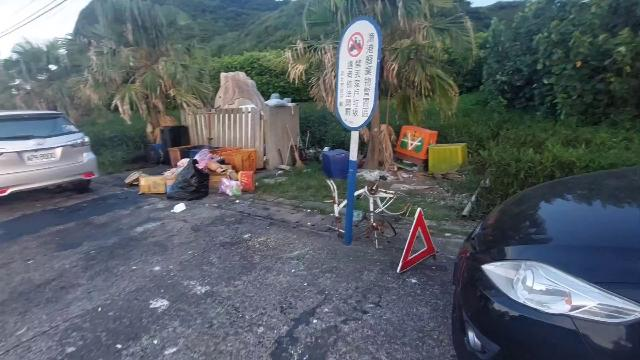pollute: (117, 142, 257, 201), (356, 174, 413, 248), (393, 125, 473, 177), (324, 178, 346, 221), (321, 147, 349, 178)
